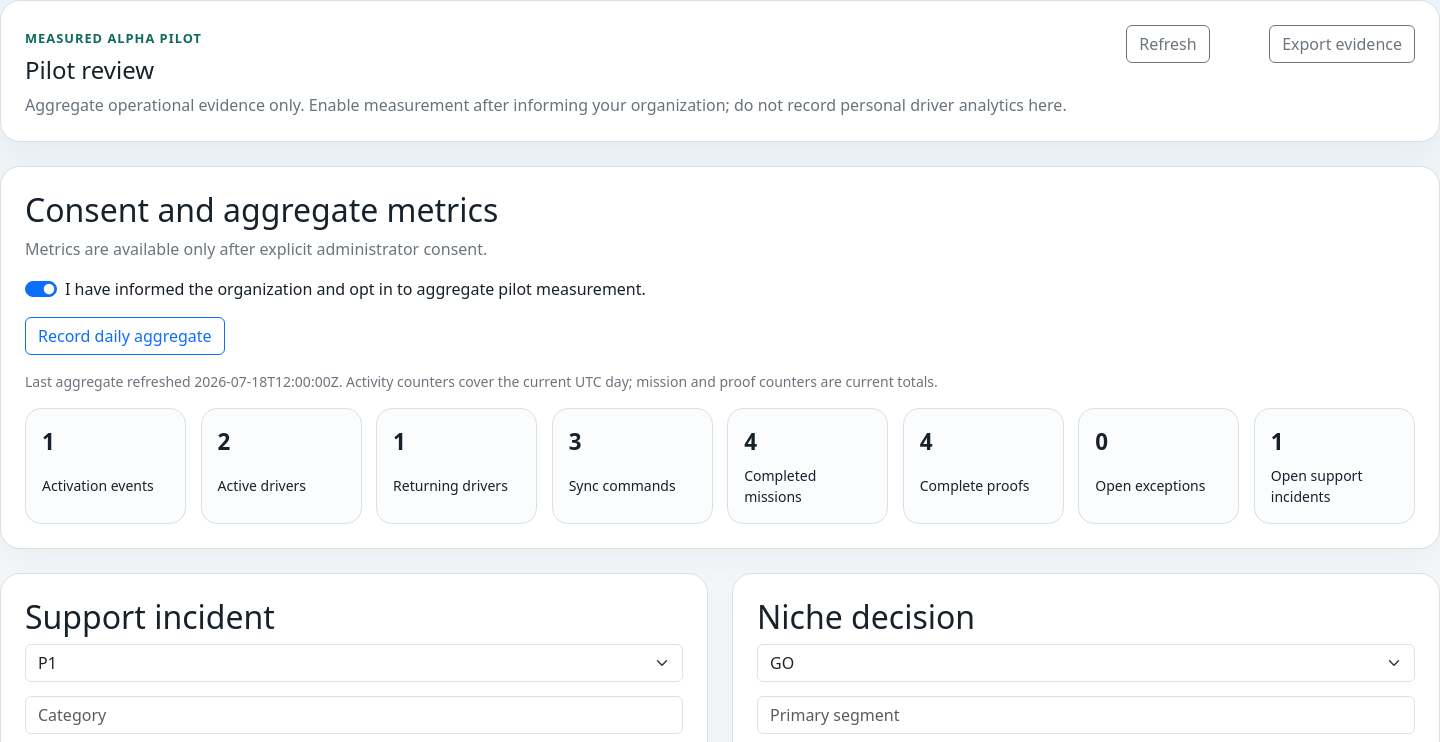
PilotReviewView › records a consented aggregate and exports tenant pilot evidence
Click the button "Record daily aggregate": click(125, 336) [25, 317, 225, 355]
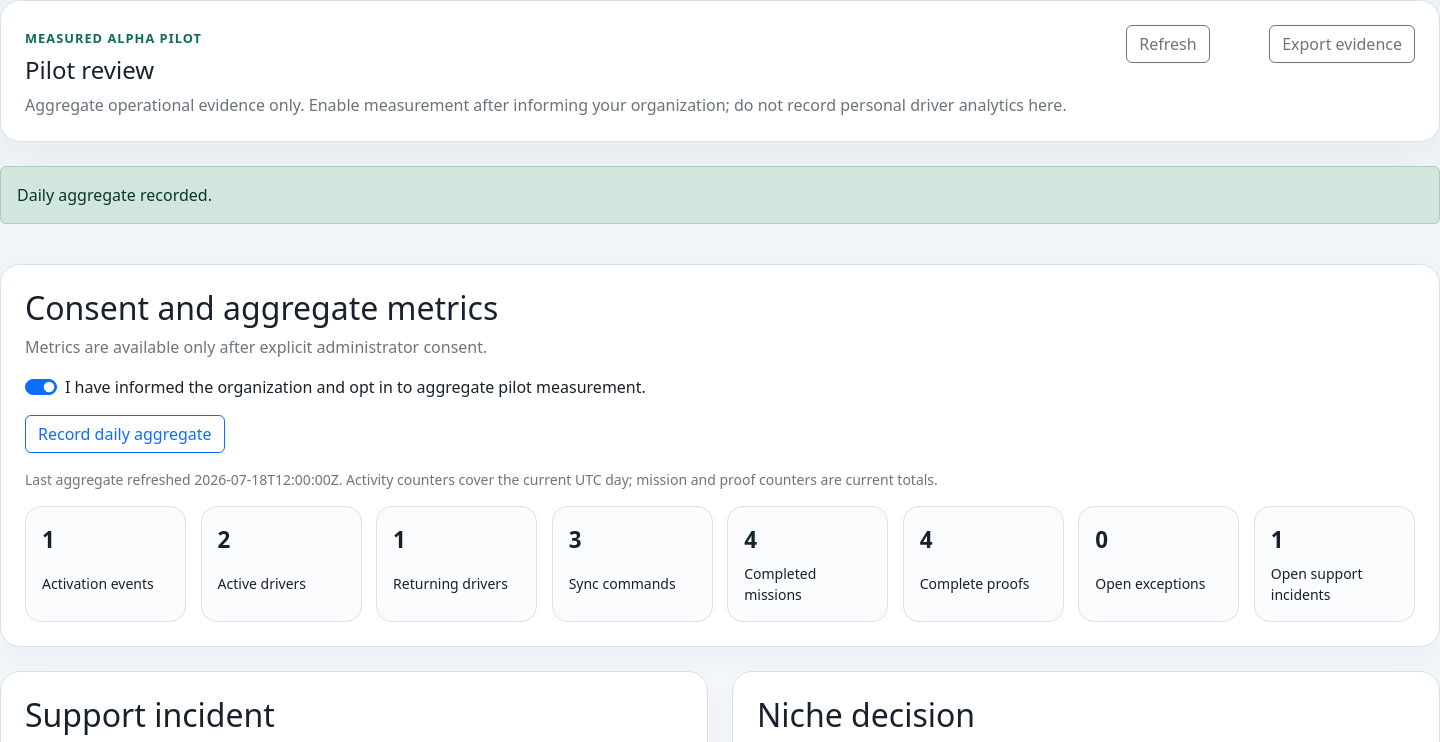
Result: the text "Daily aggregate recorded." is shown at [0, 166, 1439, 224]
Click the button "Export evidence": click(1342, 44) [1269, 25, 1415, 63]
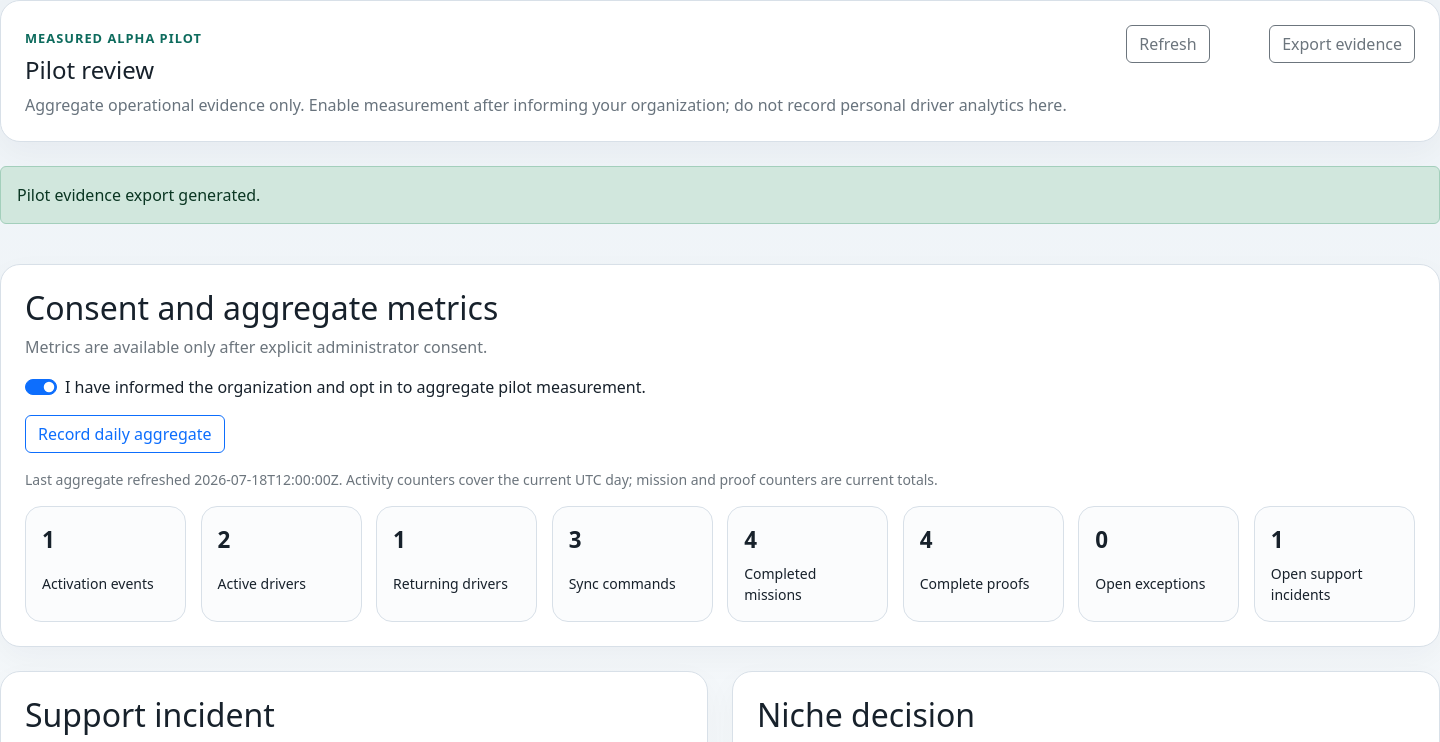
Result: the text "Pilot evidence export generated." is shown at [0, 166, 1439, 224]
